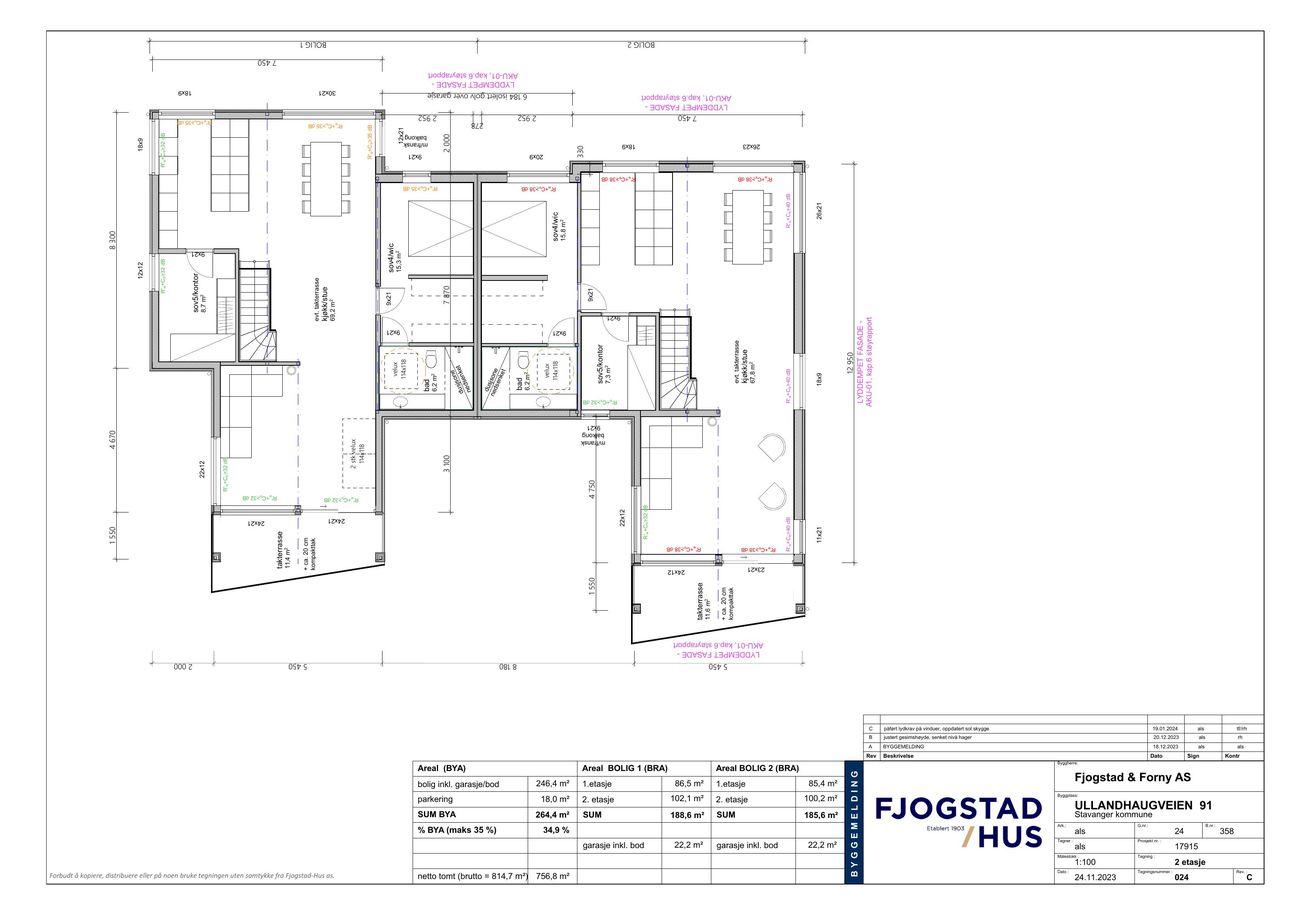plantegning: (149, 109, 804, 644)
